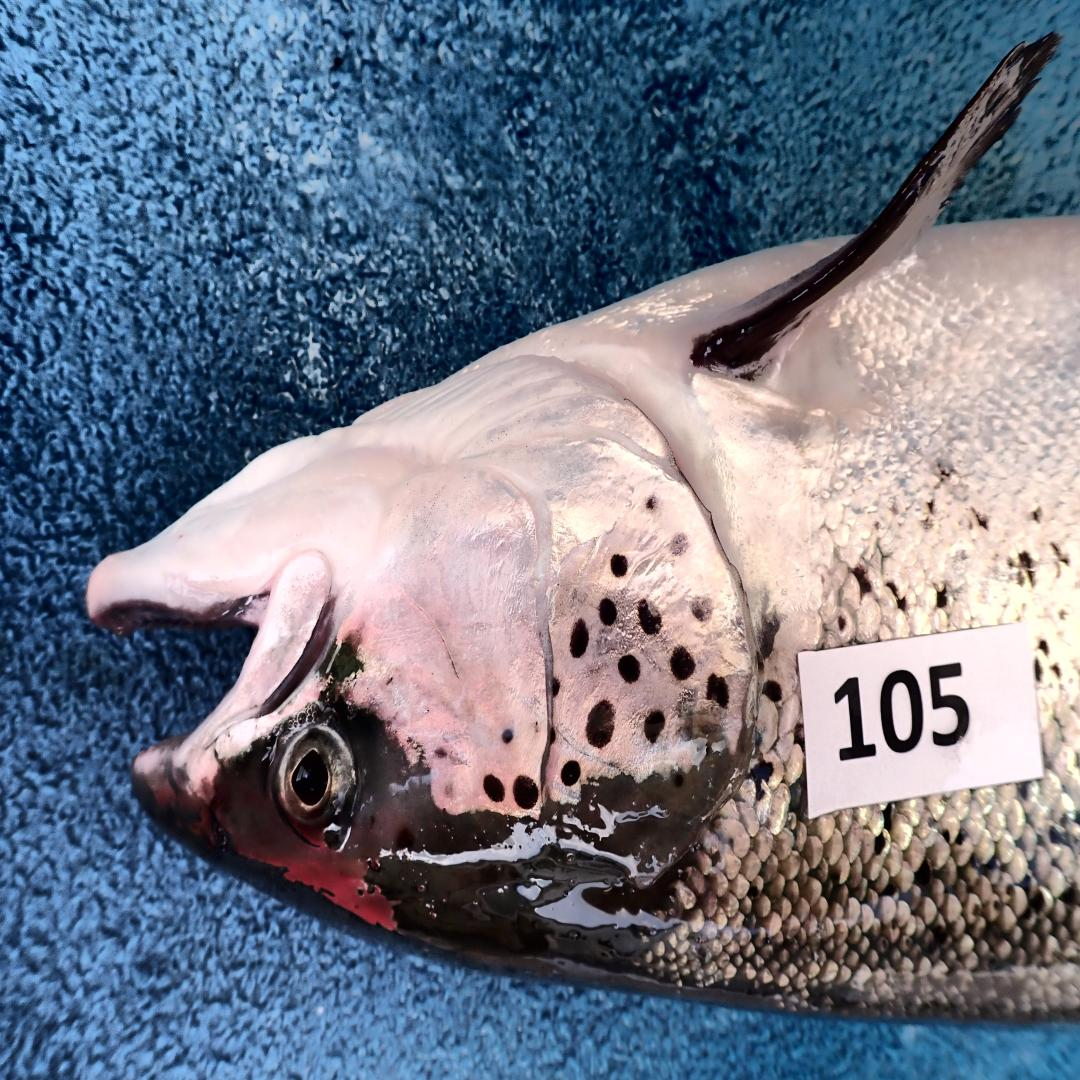spot: (586, 700, 615, 748), (637, 599, 662, 636), (513, 774, 538, 810), (670, 647, 695, 681), (706, 674, 730, 709), (569, 619, 589, 658), (643, 709, 665, 742), (483, 773, 504, 803), (598, 596, 618, 626), (618, 655, 639, 683), (561, 759, 581, 788), (692, 598, 713, 621), (610, 554, 629, 577), (670, 534, 688, 555), (674, 771, 685, 787), (502, 728, 514, 742), (435, 747, 447, 759), (552, 678, 559, 698), (550, 726, 556, 745), (646, 499, 653, 510)
